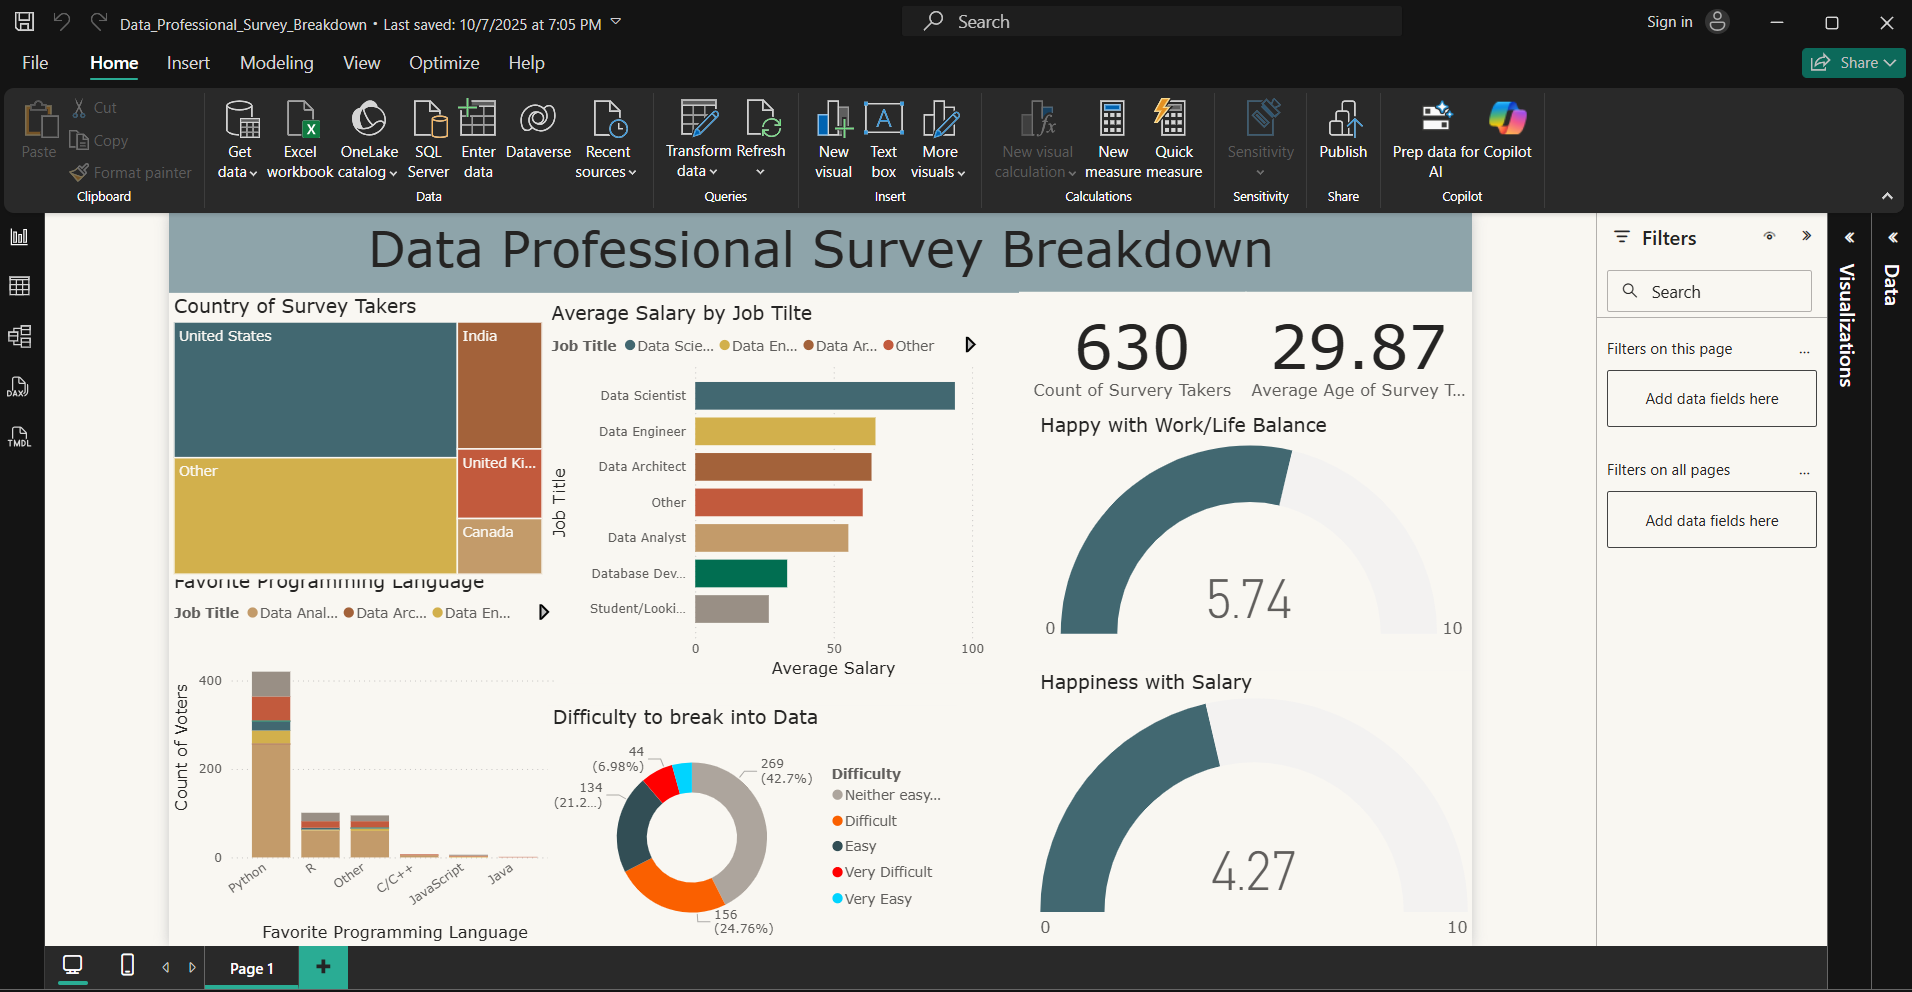

Layout of this report page (visuals, bound fields, positions):
{"tool":"powerbi","page":{"name":"Page 1","canvas":[1280,720],"ordinal":0},"visuals":[{"type":"textbox","box":[0,0,1280,78],"z":0},{"type":"card","fields":{"Values":["CountNonNull(Data Professional Survey.Unique ID)"]},"box":[834,77.6,222.9,118.6],"z":1000},{"type":"card","fields":{"Values":["Avg(Data Professional Survey.Q10 - Current Age)"]},"box":[1056.8,77.6,222.9,118.6],"z":2000},{"type":"barChart","title":"Average Salary by Job Tilte","fields":{"Category":["Data Professional Survey.Q1 - Which Title Best Fits your Current Role?.1"],"Y":["Avg(Data Professional Survey.Average Salaty)"],"Series":["Data Professional Survey.Q1 - Which Title Best Fits your Current Role?.1"]},"box":[371,87,435,374],"z":3000},{"type":"columnChart","title":"Favorite Programming Language","fields":{"Category":["Data Professional Survey.Q5 - Favorite Programming Language.1"],"Y":["CountNonNull(Data Professional Survey.Unique ID)"],"Series":["Data Professional Survey.Q1 - Which Title Best Fits your Current Role?.1"]},"box":[0,350,387.1,370],"z":4000},{"type":"treemap","title":"Country of Survey Takers","fields":{"Group":["Data Professional Survey.Q11 - Which Country do you live in?.1"],"Values":["CountNonNull(Data Professional Survey.Q11 - Which Country do you live in?.1)"]},"box":[0,80,371.4,280],"z":5000},{"type":"gauge","title":"Happy with Work/Life Balance","fields":{"Y":["Avg(Data Professional Survey.Q6 - How Happy are you in your Current Position with the following? (Work/Life Balance))"],"MinValue":["Min(Data Professional Survey.Q6 - How Happy are you in your Current Position with the following? (Work/Life Balance))"],"MaxValue":["Max(Data Professional Survey.Q6 - How Happy are you in your Current Position with the following? (Work/Life Balance))1"]},"box":[850,195.7,430,231.4],"z":6000},{"type":"gauge","title":"Happiness with Salary","fields":{"Y":["Avg(Data Professional Survey.Q6 - How Happy are you in your Current Position with the following? (Salary))"],"MinValue":["Min(Data Professional Survey.Q6 - How Happy are you in your Current Position with the following? (Salary))1"],"MaxValue":["Max(Data Professional Survey.Q6 - How Happy are you in your Current Position with the following? (Salary))2"]},"box":[850,448.6,430,271.4],"z":7000},{"type":"donutChart","title":"Difficulty to break into Data","fields":{"Category":["Data Professional Survey.Q7 - How difficult was it for you to break into Data?"],"Y":["CountNonNull(Data Professional Survey.Q7 - How difficult was it for you to break into Data?)"]},"box":[371.4,482.9,401.4,237.1],"z":8000}]}

Visuals, with their boxes on the page's 1280x720 design canvas (x1, y1, x2, y2). These are canvas units, not pixel positions in the 1912x992 screenshot, which may show the page scaled, cropped or inside an application window:
textbox: bbox=[0, 0, 1280, 78]
card - CountNonNull(Data Professional Survey.Unique ID): bbox=[834, 78, 1057, 196]
card - Avg(Data Professional Survey.Q10 - Current Age): bbox=[1057, 78, 1280, 196]
"Average Salary by Job Tilte" barChart: bbox=[371, 87, 806, 461]
"Favorite Programming Language" columnChart: bbox=[0, 350, 387, 720]
"Country of Survey Takers" treemap: bbox=[0, 80, 371, 360]
"Happy with Work/Life Balance" gauge: bbox=[850, 196, 1280, 427]
"Happiness with Salary" gauge: bbox=[850, 449, 1280, 720]
"Difficulty to break into Data" donutChart: bbox=[371, 483, 773, 720]
